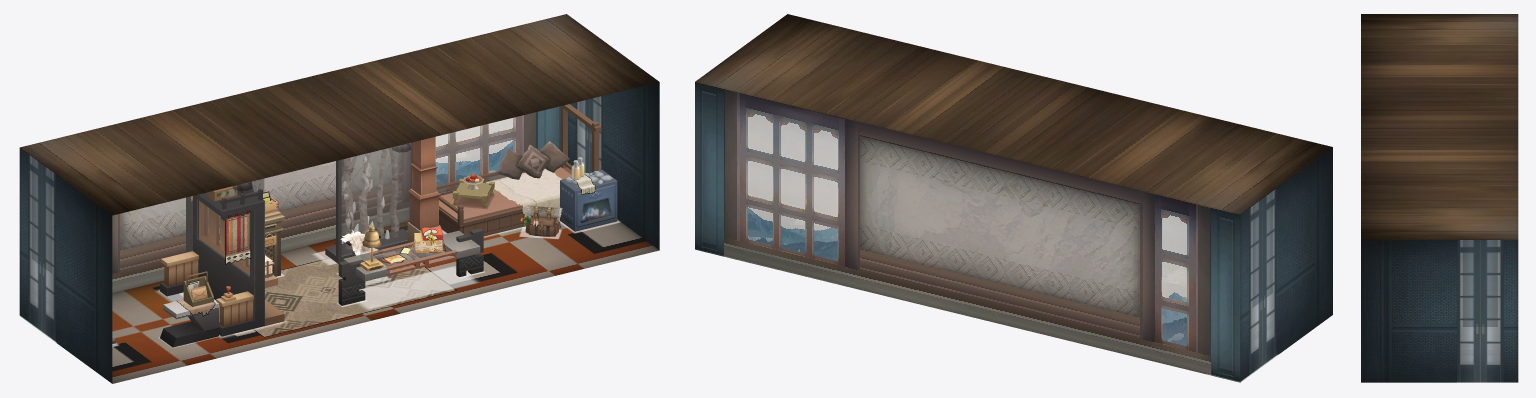
The model's file is postOffice.glb.
The picture shows the model from 3 angles, left to right: view 1: azimuth 30°, elevation 25°; view 2: azimuth 150°, elevation 25°; view 3: azimuth 270°, elevation 25°; orthographic projection. The views are drawn at different scales.
Parts seen in each view (by area): view 1: ROOM_room, ROOM_floor, furni_postOffice_cabinet_03.001, furni_postOffice_carpet_01, furni_postOffice_bed_01, furni_postOffice_decor_02, furni_postOffice_desk_01, furni_postOffice_decor_01, furni_postOffice_stove_01, furni_postOffice_pillar_01, furni_postOffice_cabinet_02.001, shadow_01.008 (+9 smaller); view 2: ROOM_room, ROOM_LDoor; view 3: ROOM_room, ROOM_RDoor.
Boxes of the visible parts, x1,y1,x2,y2 form: ROOM_room: [19, 14, 659, 383]; ROOM_floor: [112, 218, 659, 383]; furni_postOffice_cabinet_03.001: [160, 181, 284, 336]; furni_postOffice_carpet_01: [214, 251, 456, 337]; furni_postOffice_bed_01: [436, 104, 600, 236]; furni_postOffice_decor_02: [341, 142, 411, 255]; furni_postOffice_desk_01: [338, 225, 483, 305]; furni_postOffice_decor_01: [325, 142, 412, 263]; furni_postOffice_stove_01: [560, 157, 617, 231]; furni_postOffice_pillar_01: [407, 136, 440, 257]; furni_postOffice_cabinet_02.001: [160, 271, 218, 347]; shadow_01.008: [358, 266, 478, 309]; ROOM_room: [695, 14, 1332, 382]; ROOM_LDoor: [1300, 249, 1319, 338]; ROOM_room: [1361, 14, 1518, 382]; ROOM_RDoor: [1384, 318, 1416, 382].
Size of the model in its own units: 7.59 by 2.2 by 2.25.
8 materials, 8 textured.
